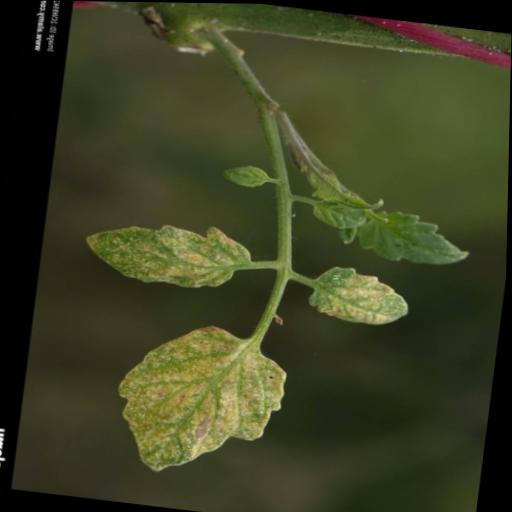Spider Mites: (105, 313, 295, 488), (79, 210, 259, 297), (304, 260, 416, 327)
